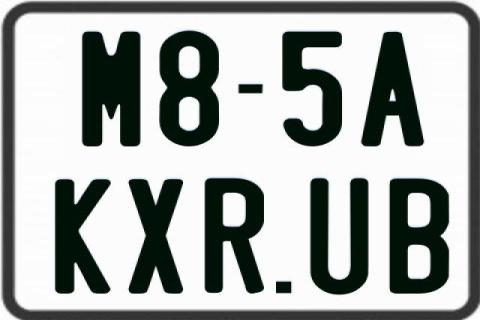0: (282, 30, 346, 150), (158, 30, 223, 146)
A: (361, 30, 425, 144)
B: (388, 176, 448, 291)
K: (52, 177, 113, 292)
M: (81, 29, 143, 145)
R: (205, 178, 269, 298)
U: (307, 178, 369, 298)
X: (127, 178, 185, 294)
